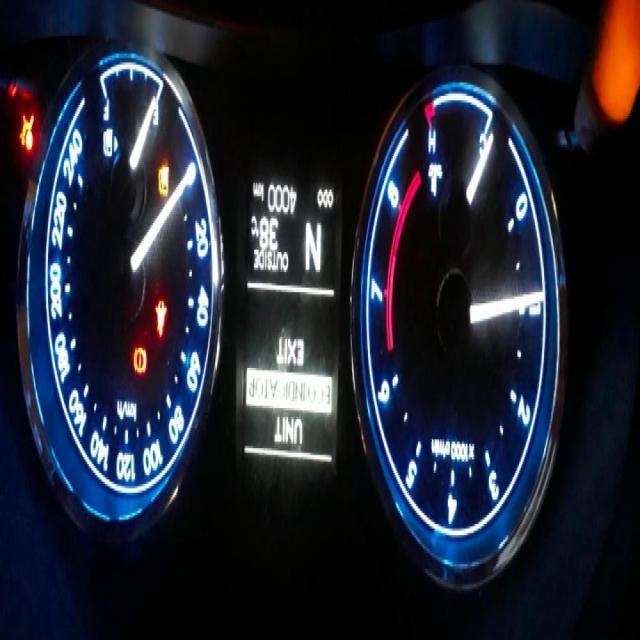Seat Belt: (153, 298, 168, 336), (157, 164, 170, 196)
